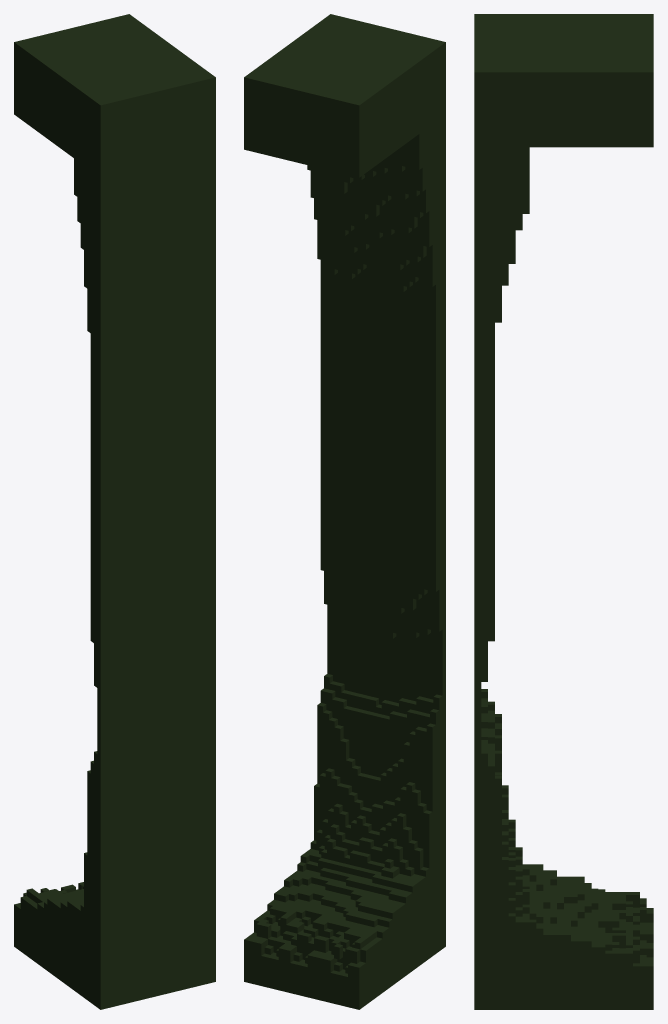
File: Wall_3.glb
3 renders of one model, left to right at view 1: azimuth 30°, elevation 25°; view 2: azimuth 150°, elevation 25°; view 3: azimuth 270°, elevation 25°, orthographic. The views are drawn at different scales.
Parts seen in each view (by area): view 1: Untitled.018; view 2: Untitled.018; view 3: Untitled.018.
Boxes of the visible parts, left/top/right/bottom form: Untitled.018: left=14, top=14, right=215, bottom=1009; Untitled.018: left=244, top=14, right=445, bottom=1009; Untitled.018: left=474, top=14, right=653, bottom=1009.
Bounding box in the file's own units: 2 × 15 × 2.6.
1 material, 1 textured.
